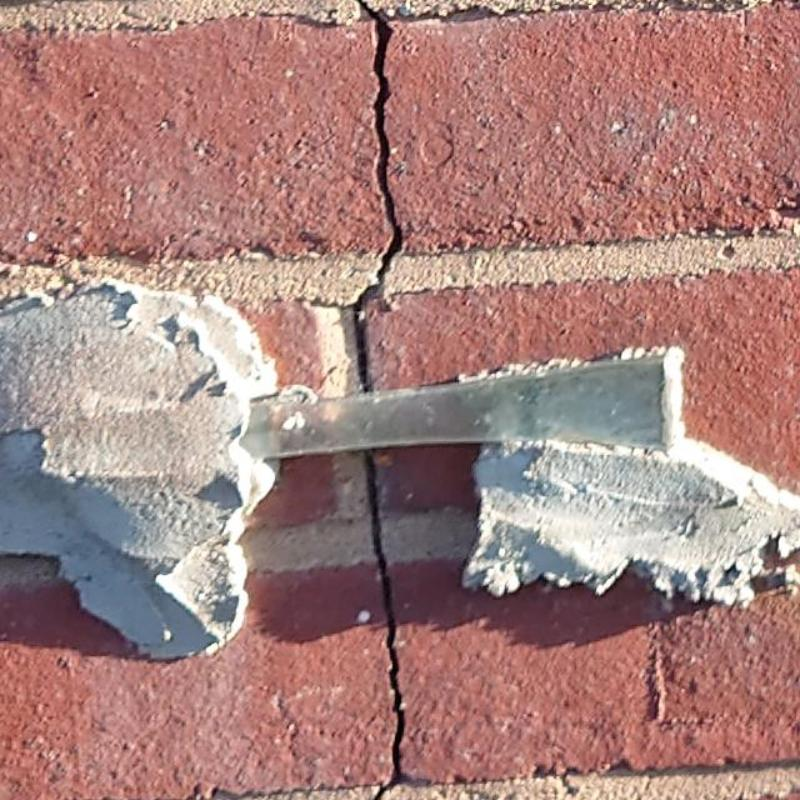pothole: (356, 0, 402, 388), (366, 452, 403, 800)
